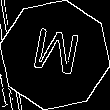M_S: (27, 26, 83, 84)
